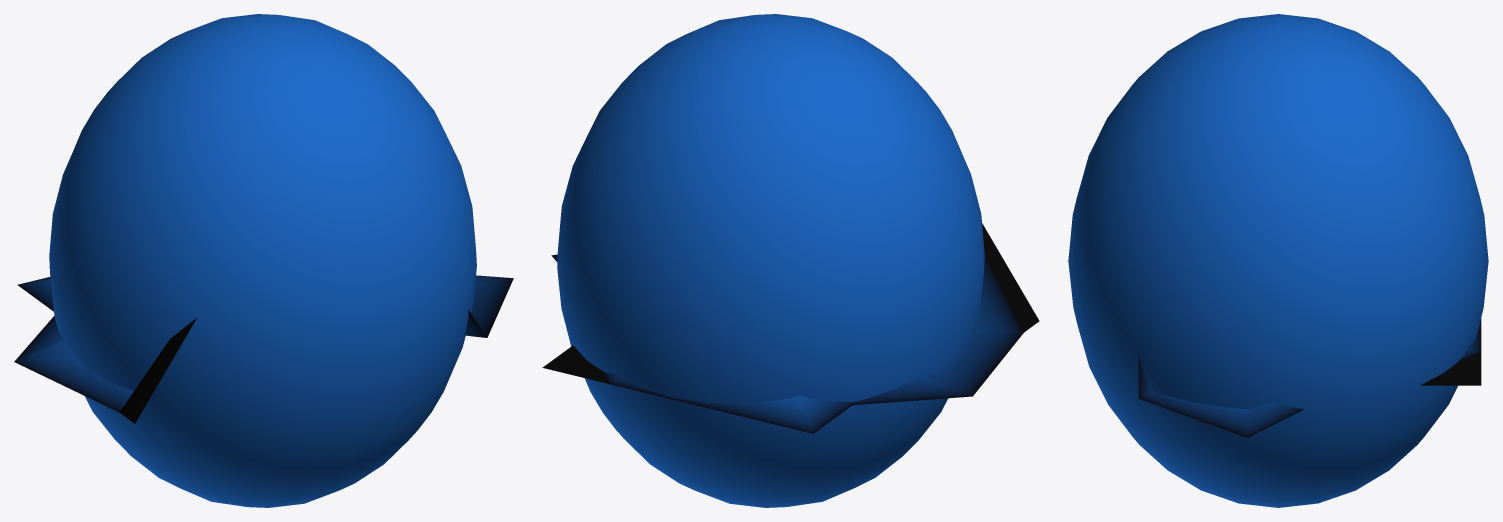
File: Animation Root.fbx
3 renders of one model, left to right at view 1: azimuth 30°, elevation 25°; view 2: azimuth 150°, elevation 25°; view 3: azimuth 270°, elevation 25°, orthographic.
Parts seen in each view (by area): view 1: corruption sphere, surface; view 2: corruption sphere, surface; view 3: corruption sphere, surface.
Boxes of the visible parts, x1=… form: corruption sphere: x1=49, y1=14, x2=476, y2=507; surface: x1=14, y1=275, x2=513, y2=423; corruption sphere: x1=557, y1=14, x2=984, y2=507; surface: x1=542, y1=223, x2=1039, y2=433; corruption sphere: x1=1068, y1=14, x2=1488, y2=507; surface: x1=1138, y1=318, x2=1481, y2=437.
Size of the model in its own units: 17 by 16.33 by 13.49.
